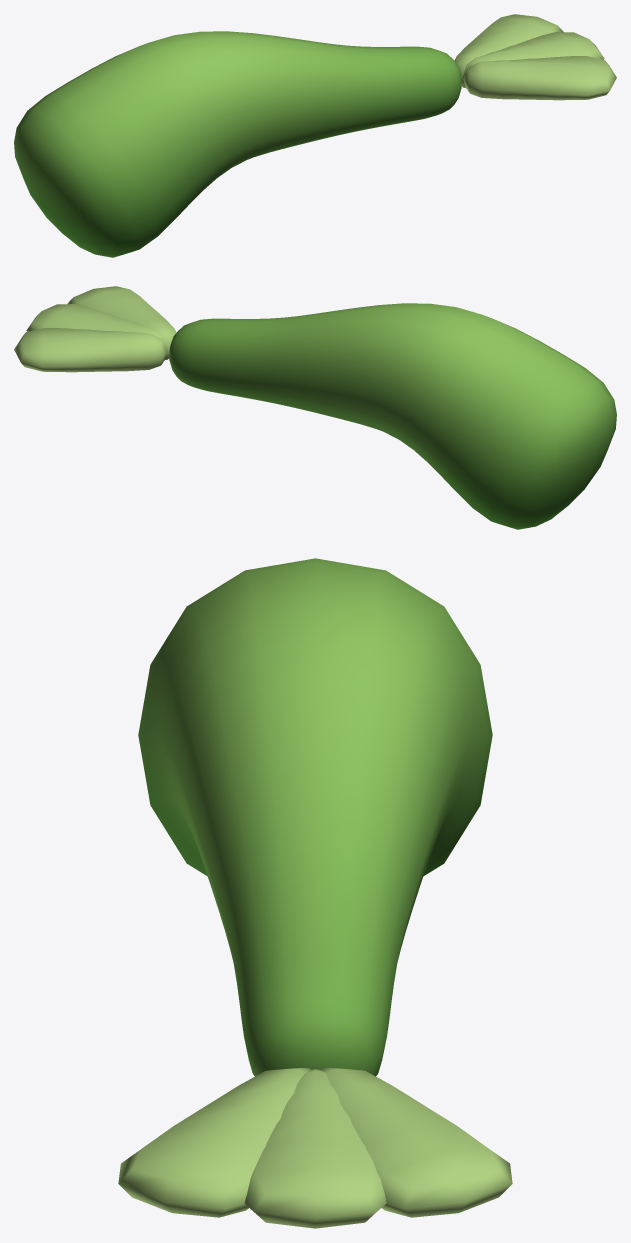
The model's file is one_leg.glb.
3 views of the same model, one above another, from view 1: azimuth 30°, elevation 25°; view 2: azimuth 150°, elevation 25°; view 3: azimuth 270°, elevation 25° (orthographic). The views are drawn at different scales.
Visible parts, largest first — view 1: one_leg; view 2: one_leg; view 3: one_leg.
Boxes of the visible parts, bbox=[...] form: one_leg: bbox=[14, 14, 616, 257]; one_leg: bbox=[14, 286, 616, 529]; one_leg: bbox=[118, 558, 512, 1228].
Bounding box in the file's own units: 0.3621 × 0.1144 × 0.1093.
